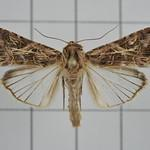Spodoptera litura: (1, 25, 150, 127)
